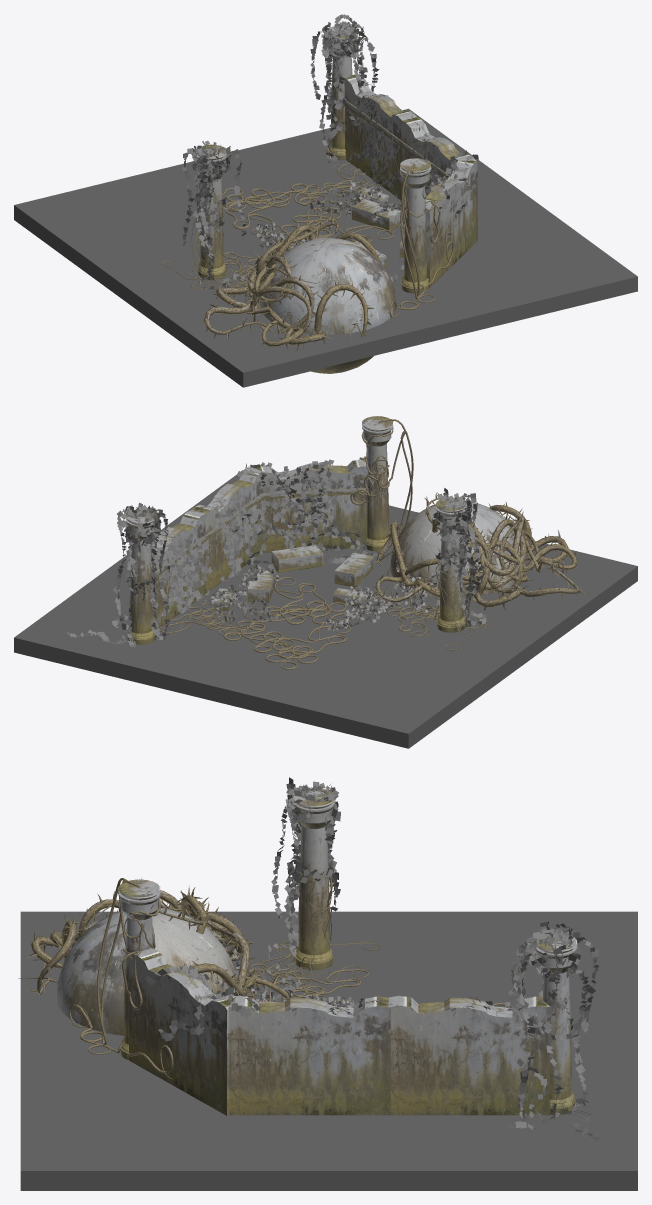
File: Ivy_Set.fbx
The picture shows the model from 3 angles, top to bottom: view 1: azimuth 30°, elevation 25°; view 2: azimuth 150°, elevation 25°; view 3: azimuth 270°, elevation 25°; orthographic projection. The views are drawn at different scales.
Parts seen in each view (by area): view 1: Cube, Sphere, NewIvySnapshot_12, Wall_2, Wall, NewIvySnapshot_7, NewIvySnapshot_8, Column_1, Wall_1, NewIvySnapshot_4, Column_2, NewIvySnapshot_13 (+8 smaller); view 2: Cube, NewIvySnapshot_12, Wall_2, NewIvySnapshot_6, Sphere, NewIvySnapshot_7, Wall_1, NewIvySnapshot_8, Column_1, NewIvySnapshot_4, Wall, Column (+14 smaller); view 3: Cube, Wall_1, Wall, Wall_2, Sphere, NewIvySnapshot_7, NewIvySnapshot_12, Column_2, NewIvySnapshot_8, Column, NewIvySnapshot_13, Column_1 (+4 smaller).
Boxes of the visible parts, x1,y1,x2,y2 form: Cube: [14, 108, 637, 387]; Sphere: [260, 237, 396, 373]; NewIvySnapshot_12: [203, 214, 385, 351]; Wall_2: [425, 160, 477, 287]; Wall: [343, 74, 416, 199]; NewIvySnapshot_7: [310, 14, 379, 162]; NewIvySnapshot_8: [182, 140, 246, 289]; Column_1: [400, 158, 431, 293]; Wall_1: [400, 117, 475, 201]; NewIvySnapshot_4: [348, 94, 402, 201]; Column_2: [196, 144, 226, 279]; NewIvySnapshot_13: [389, 164, 454, 317]; Cube: [14, 470, 637, 748]; NewIvySnapshot_12: [371, 492, 584, 610]; Wall_2: [253, 459, 368, 552]; NewIvySnapshot_6: [229, 459, 385, 570]; Sphere: [390, 502, 526, 597]; NewIvySnapshot_7: [66, 502, 170, 647]; Wall_1: [191, 467, 263, 593]; NewIvySnapshot_8: [433, 488, 487, 626]; Column_1: [362, 416, 392, 551]; NewIvySnapshot_4: [155, 530, 212, 627]; Wall: [151, 510, 206, 628]; Column: [125, 510, 156, 644]; Cube: [20, 911, 637, 1190]; Wall_1: [228, 995, 390, 1115]; Wall: [386, 995, 549, 1115]; Wall_2: [129, 948, 235, 1115]; Sphere: [56, 908, 237, 1035]; NewIvySnapshot_7: [504, 921, 599, 1142]; NewIvySnapshot_12: [18, 878, 291, 1003]; Column_2: [293, 788, 335, 970]; NewIvySnapshot_8: [260, 777, 340, 979]; Column: [535, 933, 577, 1114]; NewIvySnapshot_13: [69, 878, 176, 1079]; Column_1: [118, 879, 160, 1059].
Bounding box in the file's own units: 2329 × 1111 × 2368.
